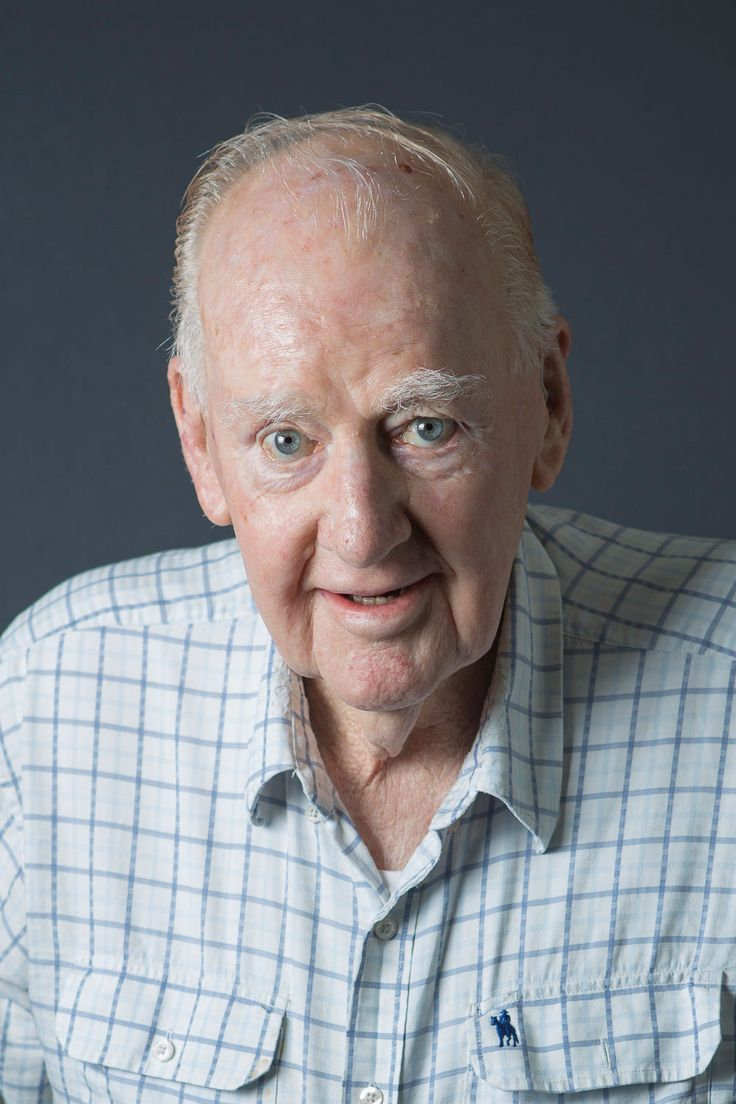human: (2, 87, 736, 1104)
